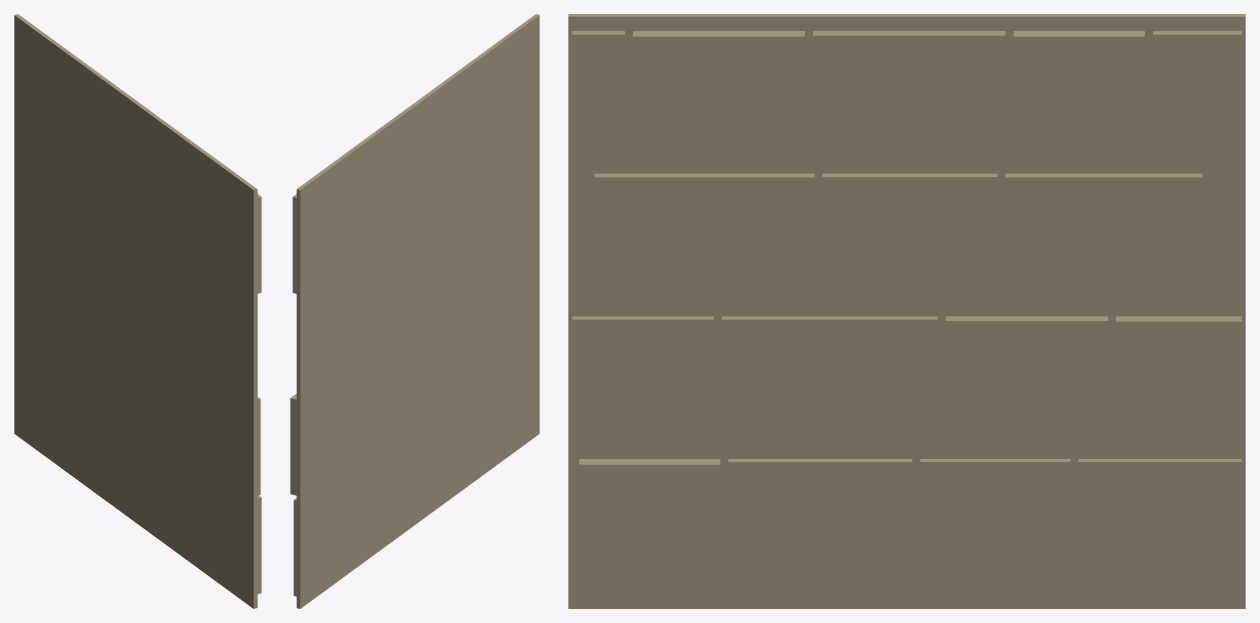
Rendered from SM_SB_Kit_StoneFaceB.fbx.
3 renders of one model, left to right at view 1: azimuth 30°, elevation 25°; view 2: azimuth 150°, elevation 25°; view 3: azimuth 270°, elevation 25°, orthographic. The views are drawn at different scales.
Visible parts, largest first — view 1: SM_SB_Kit_StoneFaceB; view 2: SM_SB_Kit_StoneFaceB; view 3: SM_SB_Kit_StoneFaceB.
Part boxes in pixels (x1=…): SM_SB_Kit_StoneFaceB: x1=14, y1=14, x2=261, y2=608; SM_SB_Kit_StoneFaceB: x1=290, y1=14, x2=539, y2=608; SM_SB_Kit_StoneFaceB: x1=568, y1=14, x2=1245, y2=608.
Bounding box in the file's own units: 12.61 × 430 × 415.
